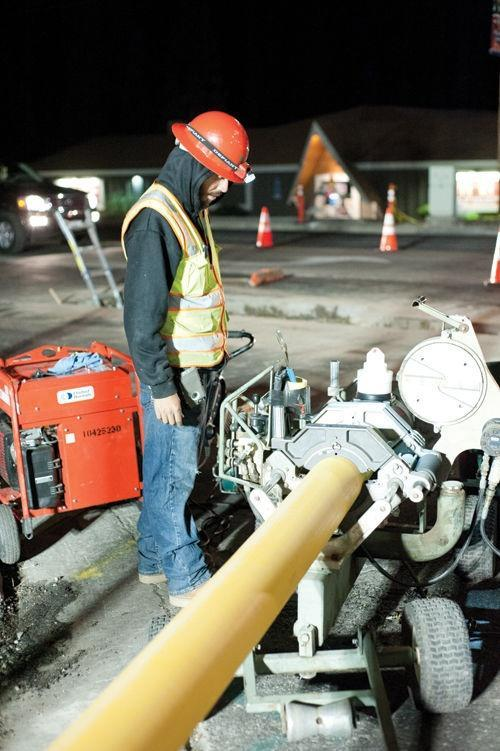helmet: (172, 108, 266, 185)
person: (119, 105, 262, 602)
vest: (145, 189, 234, 376)
